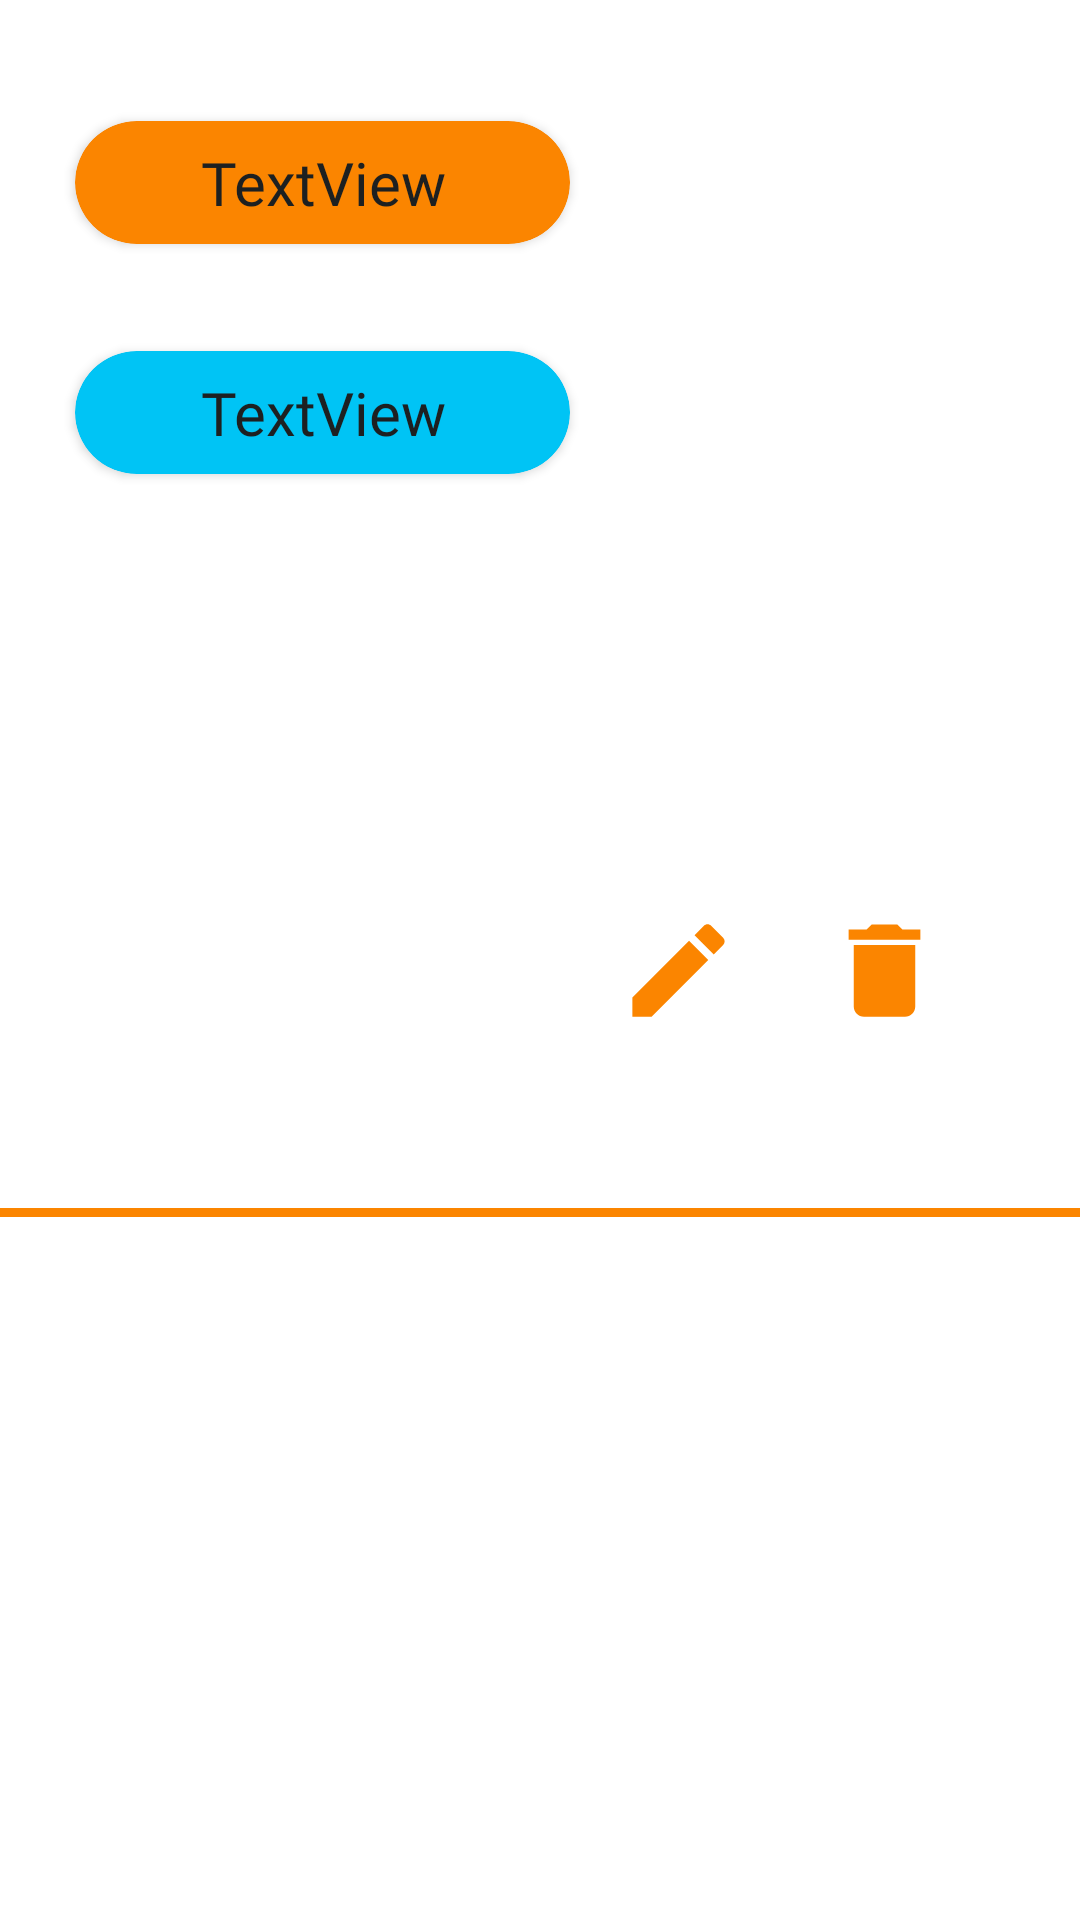

Named icons in this screenshot (1080×1920) and their bounding boxes, {"x1": x1, "y1": y1, "x2": x2, "y2": y2}:
deletebtn: {"x1": 848, "y1": 924, "x2": 921, "y2": 1017}
edit: {"x1": 632, "y1": 924, "x2": 725, "y2": 1017}
